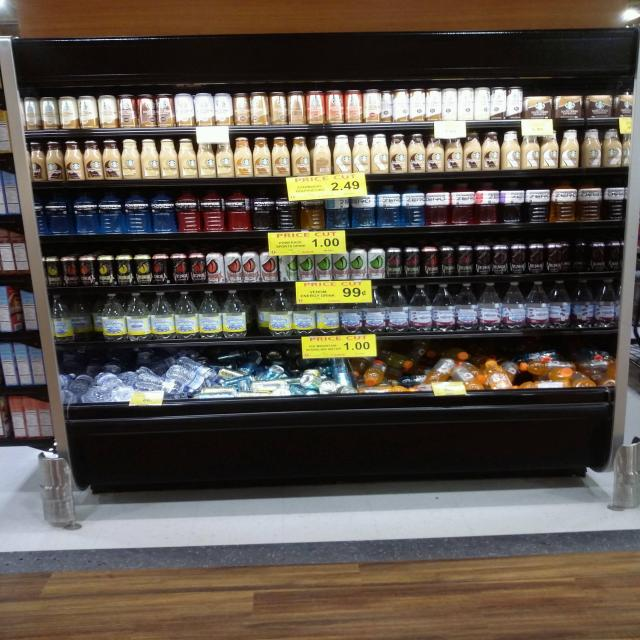empty: (247, 284, 273, 337)
